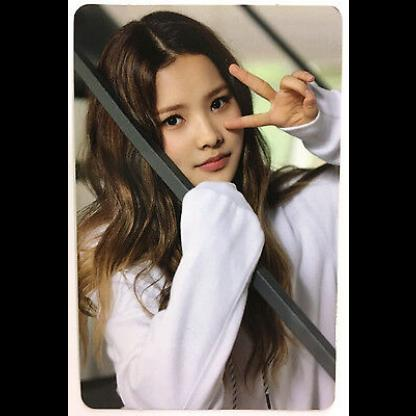Female: (151, 54, 245, 188)
